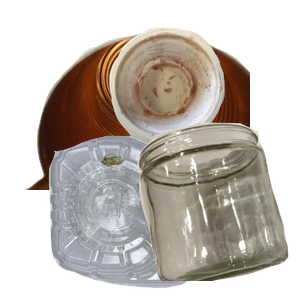glass: (135, 120, 300, 300)
metal: (21, 29, 261, 209)
plastic: (46, 130, 227, 300)
trash: (107, 25, 300, 162)
